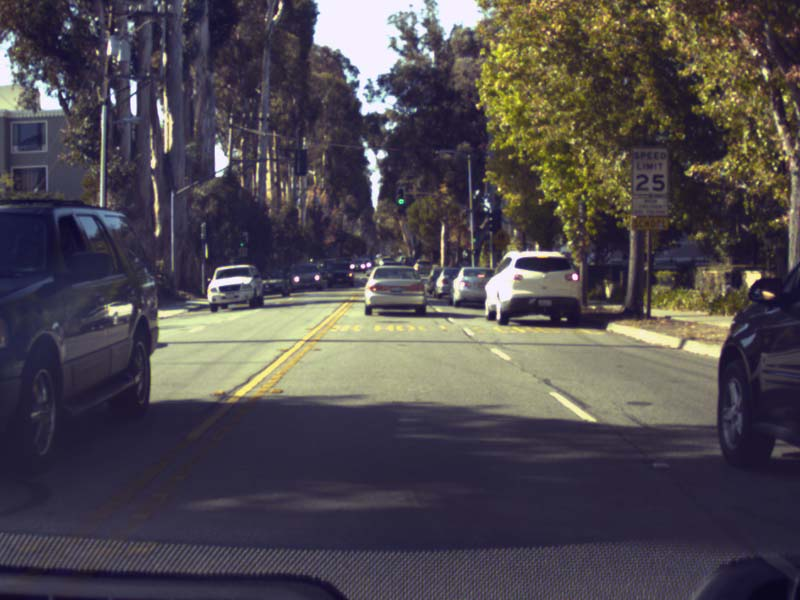Green: (396, 188, 405, 206), (471, 232, 476, 244)
